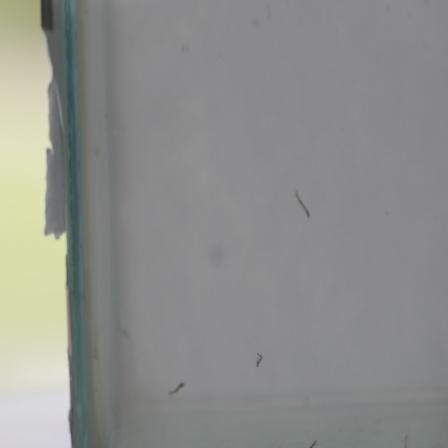Jentik-Nyamuk: (292, 187, 313, 222), (163, 376, 189, 398), (248, 349, 270, 370)
